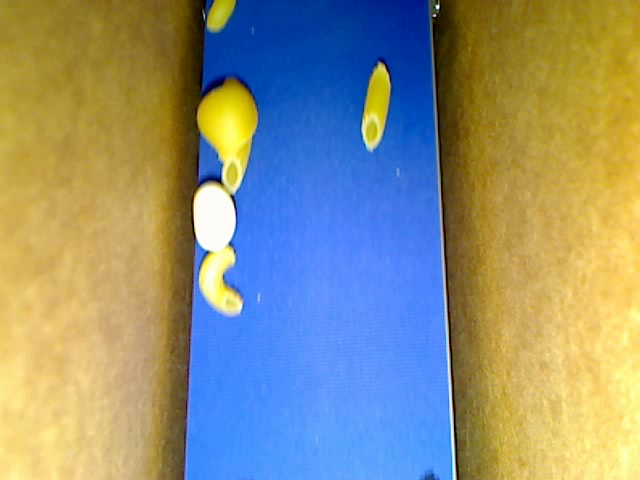elbow: (198, 245, 242, 316), (206, 1, 234, 33)
penne: (361, 62, 390, 151), (221, 135, 251, 196)
shell: (196, 78, 257, 161)
